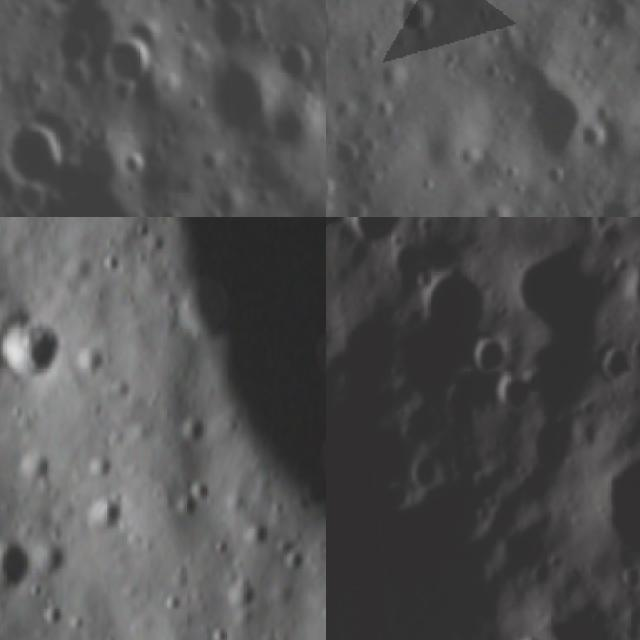crater: (326, 291, 570, 640), (504, 66, 609, 180), (587, 436, 640, 587), (0, 305, 69, 394), (5, 121, 71, 192), (382, 0, 455, 58), (0, 529, 46, 607), (188, 0, 259, 50), (333, 217, 414, 256), (78, 488, 129, 541), (57, 32, 99, 96), (495, 368, 537, 429), (463, 330, 506, 385), (275, 34, 315, 89), (326, 129, 370, 177), (110, 36, 153, 84), (405, 448, 446, 497), (214, 578, 263, 614), (591, 345, 634, 386), (13, 449, 54, 489), (175, 416, 214, 450), (274, 548, 314, 580), (186, 475, 221, 511), (122, 146, 150, 185), (238, 524, 274, 553), (591, 187, 622, 217), (157, 592, 190, 620), (36, 602, 70, 629), (623, 264, 640, 312), (264, 538, 298, 559), (98, 252, 124, 277), (174, 494, 196, 523), (167, 561, 191, 584), (208, 540, 230, 563), (65, 614, 87, 637), (24, 580, 46, 602), (204, 625, 236, 640), (42, 0, 79, 11), (314, 602, 326, 626)
